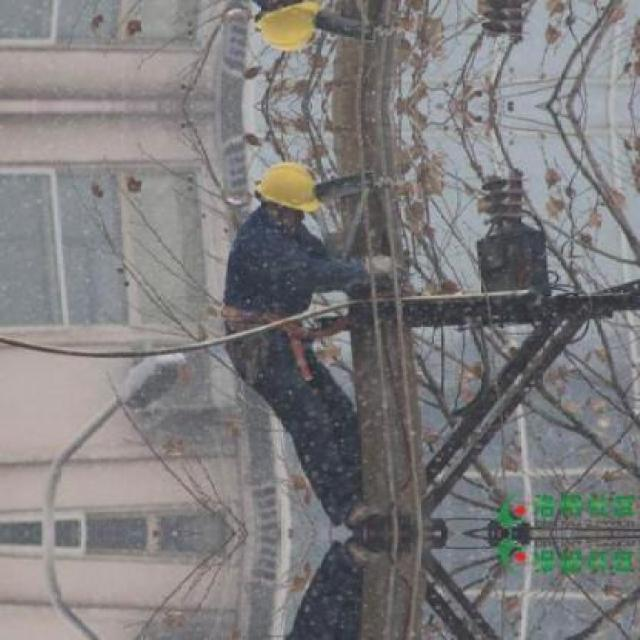hat: (252, 157, 327, 216)
